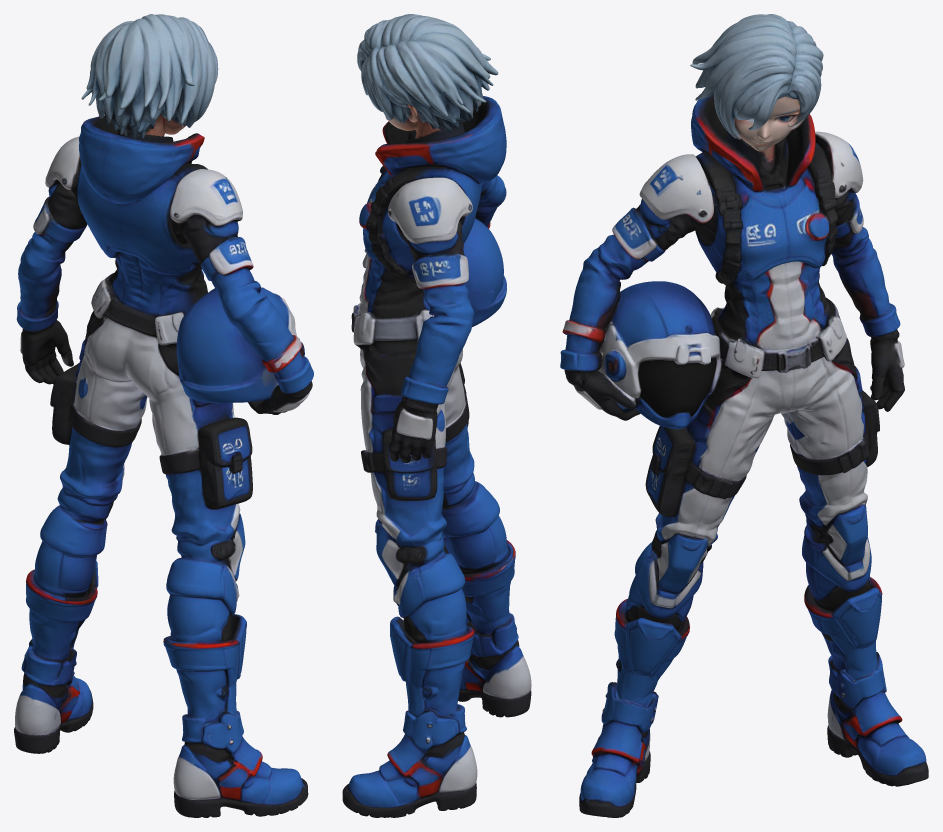
The model's file is 326-futuristic-space-pilot.glb.
3 views of the same model, side by side, from view 1: azimuth 30°, elevation 25°; view 2: azimuth 150°, elevation 25°; view 3: azimuth 270°, elevation 25° (orthographic). The views are drawn at different scales.
Visible parts, largest first — view 1: tripo_node_aa46fdba-226f-4256-8d42-090cec289b68; view 2: tripo_node_aa46fdba-226f-4256-8d42-090cec289b68; view 3: tripo_node_aa46fdba-226f-4256-8d42-090cec289b68.
Boxes of the visible parts, x1,y1,x2,y2 form: tripo_node_aa46fdba-226f-4256-8d42-090cec289b68: [14, 14, 313, 817]; tripo_node_aa46fdba-226f-4256-8d42-090cec289b68: [342, 14, 531, 817]; tripo_node_aa46fdba-226f-4256-8d42-090cec289b68: [560, 14, 928, 817].
Bounding box in the file's own units: 0.2685 × 1 × 0.4344.
1 material, 1 textured.
